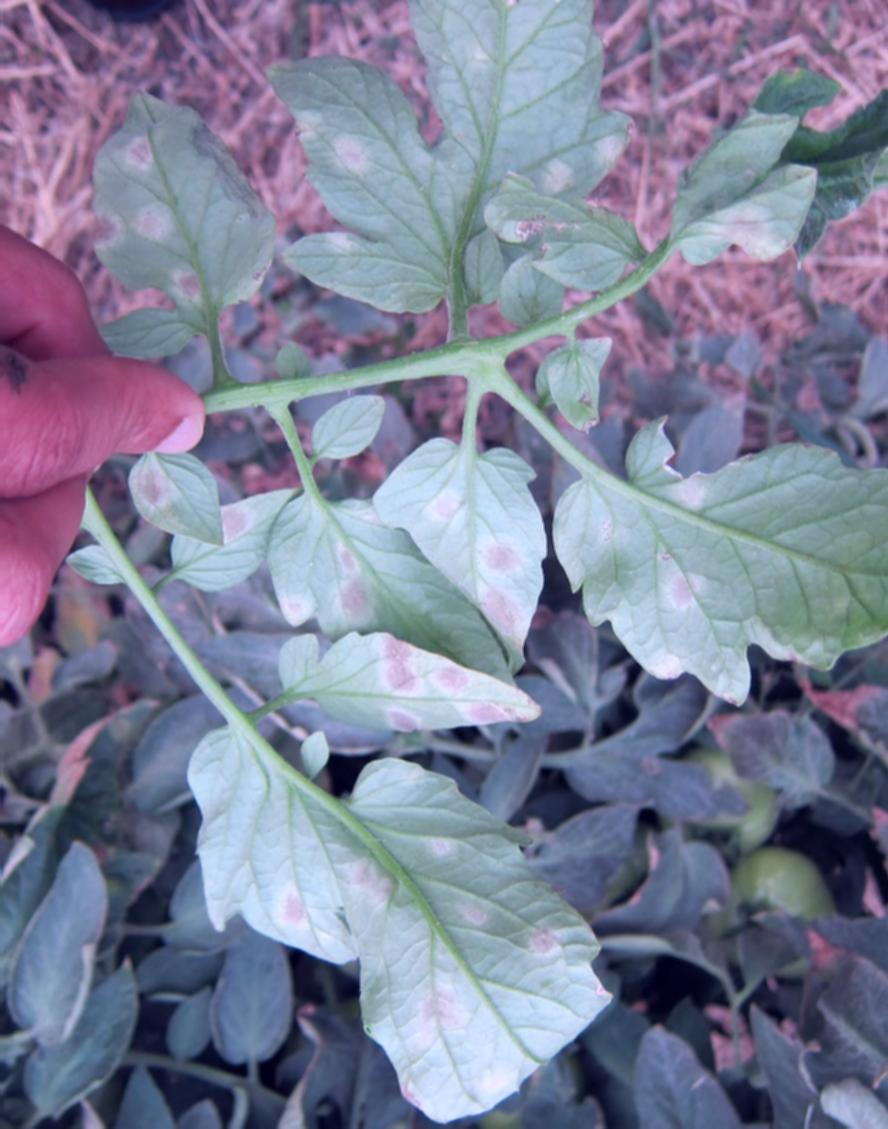Tomato mold leaf: (198, 719, 616, 1129), (268, 0, 620, 309), (550, 431, 888, 708), (262, 482, 517, 700), (86, 86, 286, 359), (670, 27, 888, 276), (357, 430, 559, 680), (251, 637, 554, 764), (490, 167, 650, 301), (121, 451, 245, 572)
